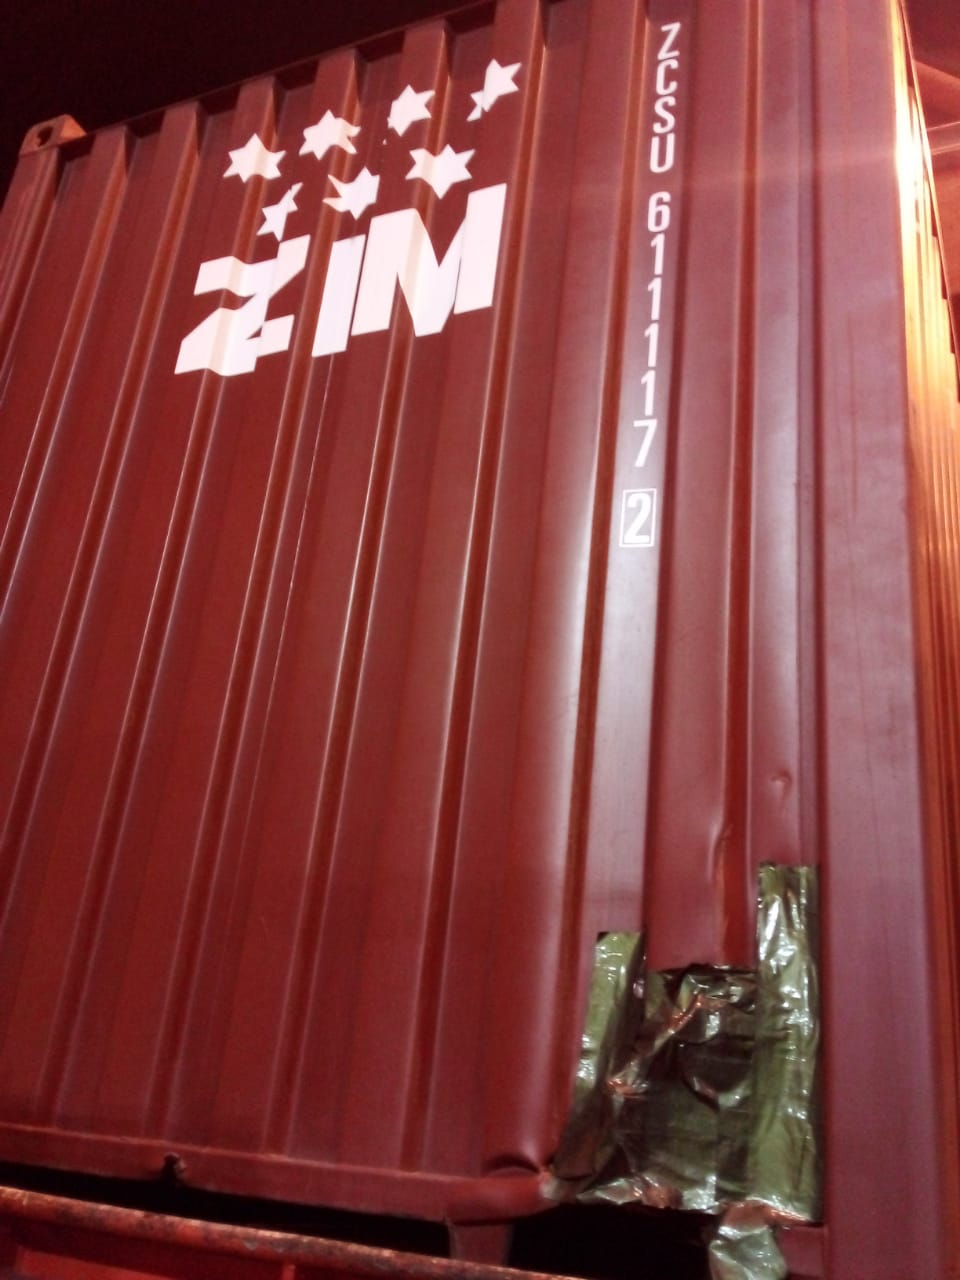severe: (541, 841, 821, 1253)
